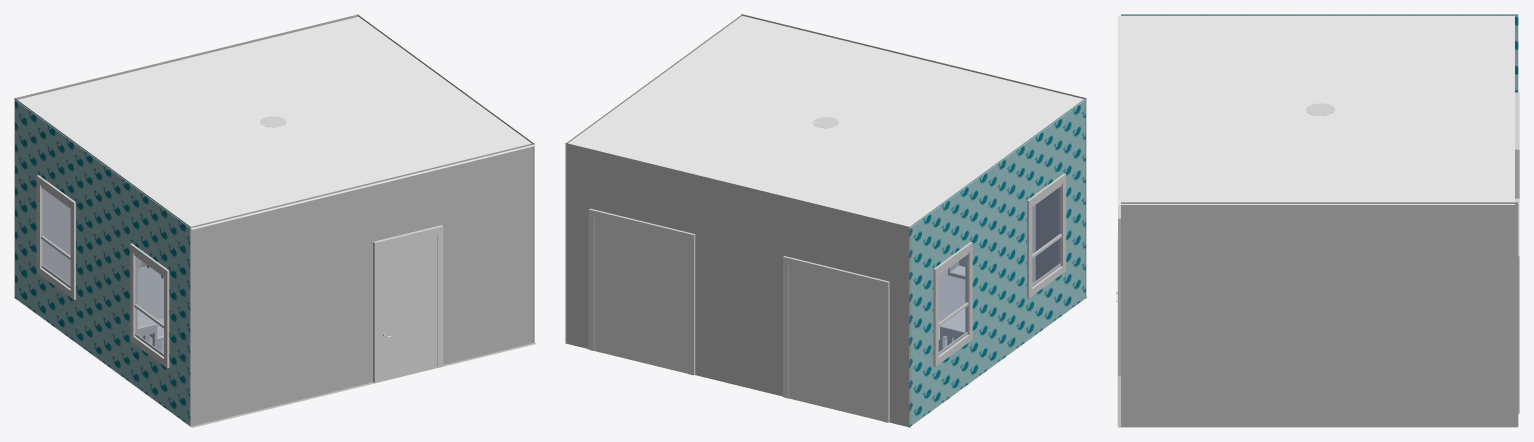
The model's file is Bedroomfbx.FBX.
3 views of the same model, side by side, from view 1: azimuth 30°, elevation 25°; view 2: azimuth 150°, elevation 25°; view 3: azimuth 270°, elevation 25° (orthographic). The views are drawn at different scales.
Parts seen in each view (by area): view 1: Left Wall, Cieling, Front Wall, Door, DoorTrim, Window1, Window002, Floor, WindowGlass1, WindowGlass2, ClosetDoor8, Right Wall (+2 smaller); view 2: Cieling, Right Wall, Front Wall, ClosetDoor1, ClosetDoor3, ClosetDoor5, ClosetDoor7, ClosetDoor4, ClosetDoor2, ClosetDoor6, ClosetDoor8, ClosetDoorTrim1 (+10 smaller); view 3: Back Wall, Cieling, Front Wall, Floor, ClosetDoorTrim2, DoorTrim, ClosetDoorTrim1.
Part boxes in pixels (x1,y1,x2,y2): Left Wall: [190, 143, 534, 426]; Cieling: [16, 16, 536, 229]; Front Wall: [14, 98, 190, 426]; Door: [380, 235, 437, 381]; DoorTrim: [373, 225, 443, 382]; Window1: [36, 175, 75, 299]; Window002: [130, 243, 169, 368]; Floor: [16, 266, 536, 427]; WindowGlass1: [42, 189, 69, 284]; WindowGlass2: [136, 257, 163, 353]; ClosetDoor8: [44, 190, 64, 280]; Right Wall: [14, 14, 358, 298]; Cieling: [568, 14, 1087, 227]; Right Wall: [565, 143, 910, 427]; Front Wall: [909, 98, 1085, 427]; ClosetDoor1: [594, 218, 618, 356]; ClosetDoor3: [641, 229, 665, 367]; ClosetDoor5: [789, 265, 812, 404]; ClosetDoor7: [836, 276, 859, 415]; ClosetDoor4: [665, 235, 688, 373]; ClosetDoor2: [618, 223, 641, 362]; ClosetDoor6: [812, 271, 835, 409]; ClosetDoor8: [859, 282, 882, 421]; ClosetDoorTrim1: [588, 208, 695, 375]; Back Wall: [1121, 202, 1518, 427]; Cieling: [1117, 16, 1514, 204]; Front Wall: [1121, 14, 1518, 92]; Floor: [1117, 239, 1514, 427]; ClosetDoorTrim2: [1515, 92, 1519, 198]; DoorTrim: [1118, 205, 1120, 376]; ClosetDoorTrim1: [1515, 198, 1519, 413].
Size of the model in its own units: 551 by 305 by 495.
